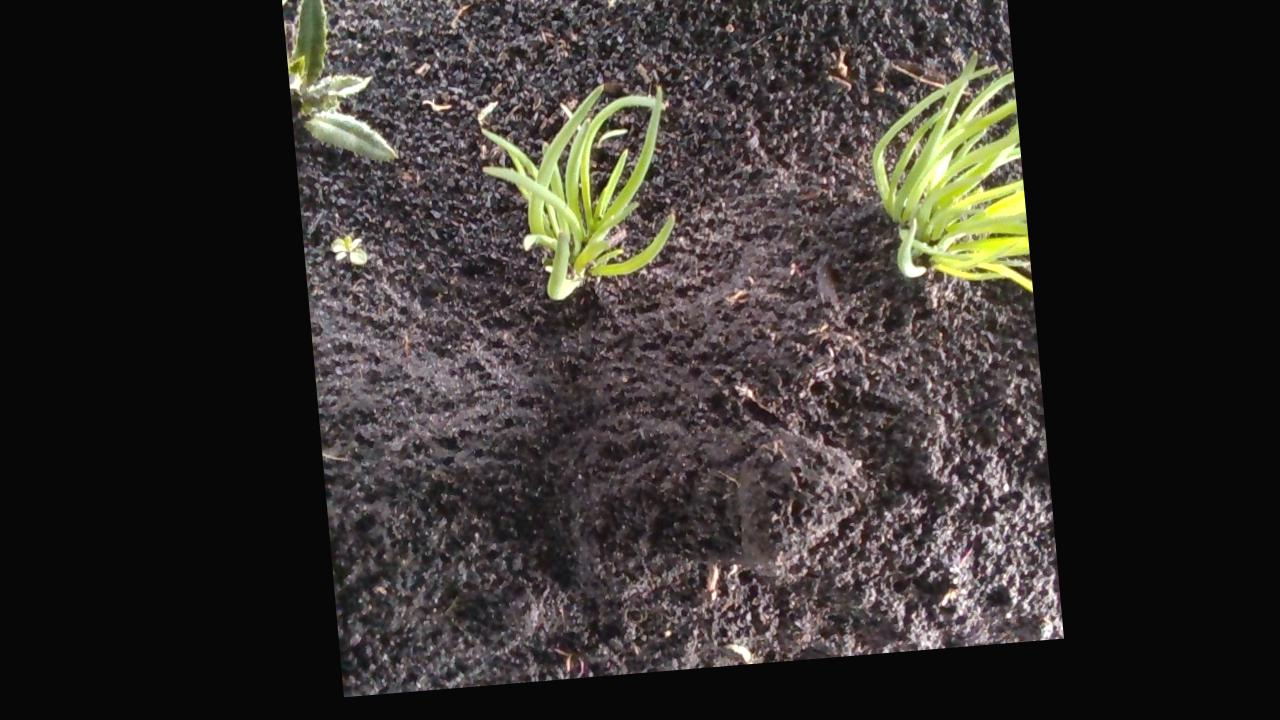weed: (324, 243, 368, 272)
